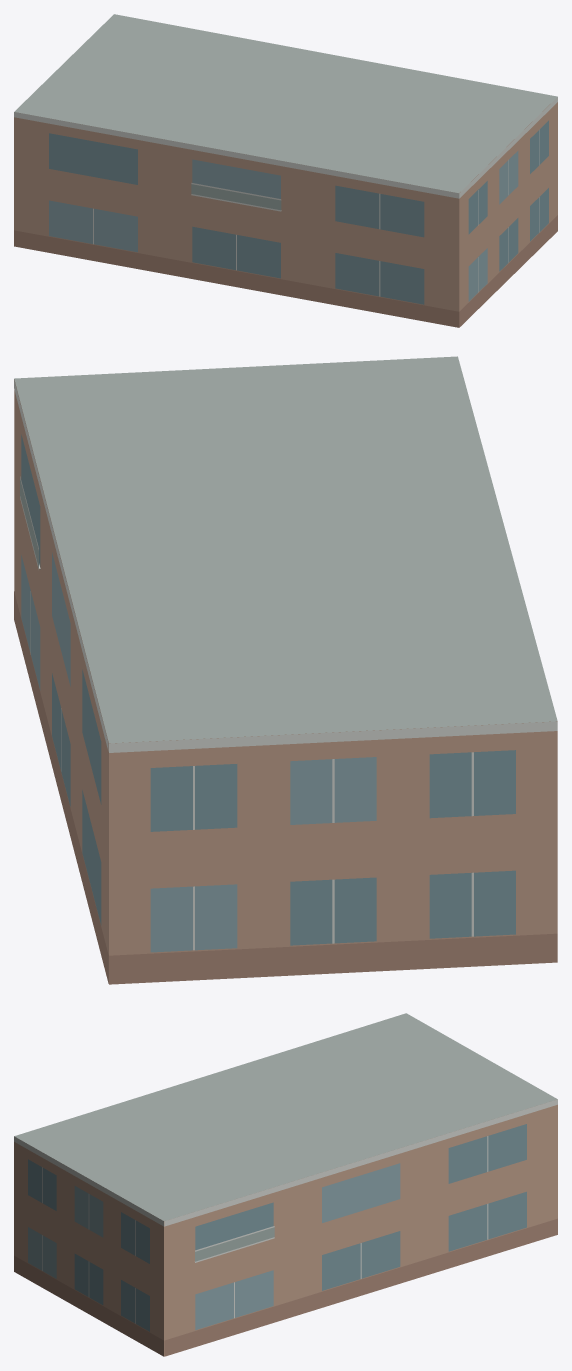
Rendered from survey-upis-32997583.glb.
3 renders of one model, top to bottom at view 1: azimuth 30°, elevation 25°; view 2: azimuth 150°, elevation 25°; view 3: azimuth 270°, elevation 25°, orthographic. The views are drawn at different scales.
Visible parts, largest first — view 1: survey-upis-32997583.tmp; view 2: survey-upis-32997583.tmp; view 3: survey-upis-32997583.tmp.
Part boxes in pixels (bbox=[...]): survey-upis-32997583.tmp: bbox=[14, 14, 557, 327]; survey-upis-32997583.tmp: bbox=[14, 356, 557, 984]; survey-upis-32997583.tmp: bbox=[14, 1013, 557, 1356].
Size of the model in its own units: 20.11 by 6.1 by 22.2.
